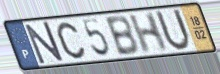5: (80, 17, 112, 59)
B: (103, 14, 140, 58)
C: (56, 21, 87, 61)
H: (127, 11, 170, 56)
N: (23, 20, 66, 66)
U: (153, 8, 193, 54)
